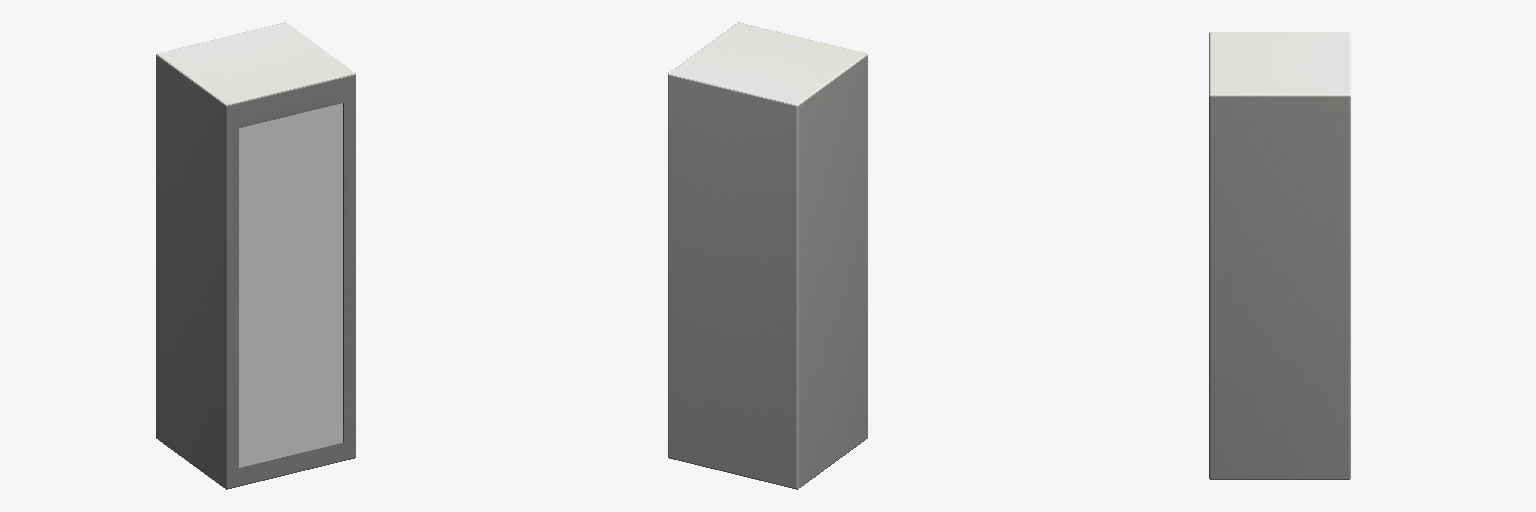
3 views of the same model, side by side, from view 1: azimuth 30°, elevation 25°; view 2: azimuth 150°, elevation 25°; view 3: azimuth 270°, elevation 25° (orthographic).
Parts seen in each view (by area): view 1: ChamferBox17, Box154; view 2: ChamferBox17; view 3: ChamferBox17.
Boxes of the visible parts, x1=… form: ChamferBox17: x1=156, y1=22, x2=355, y2=489; Box154: x1=239, y1=103, x2=342, y2=467; ChamferBox17: x1=668, y1=22, x2=867, y2=489; ChamferBox17: x1=1209, y1=32, x2=1350, y2=479.
Size of the model in its own units: 80 by 225 by 75.
Materials: 2 (1 with a texture image).